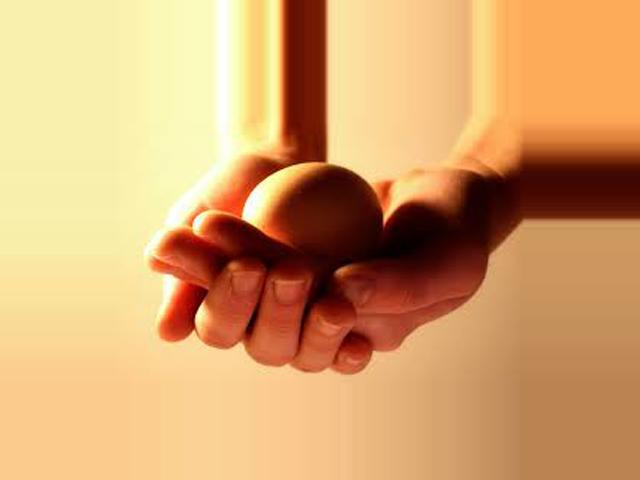egg: (242, 162, 384, 258)
